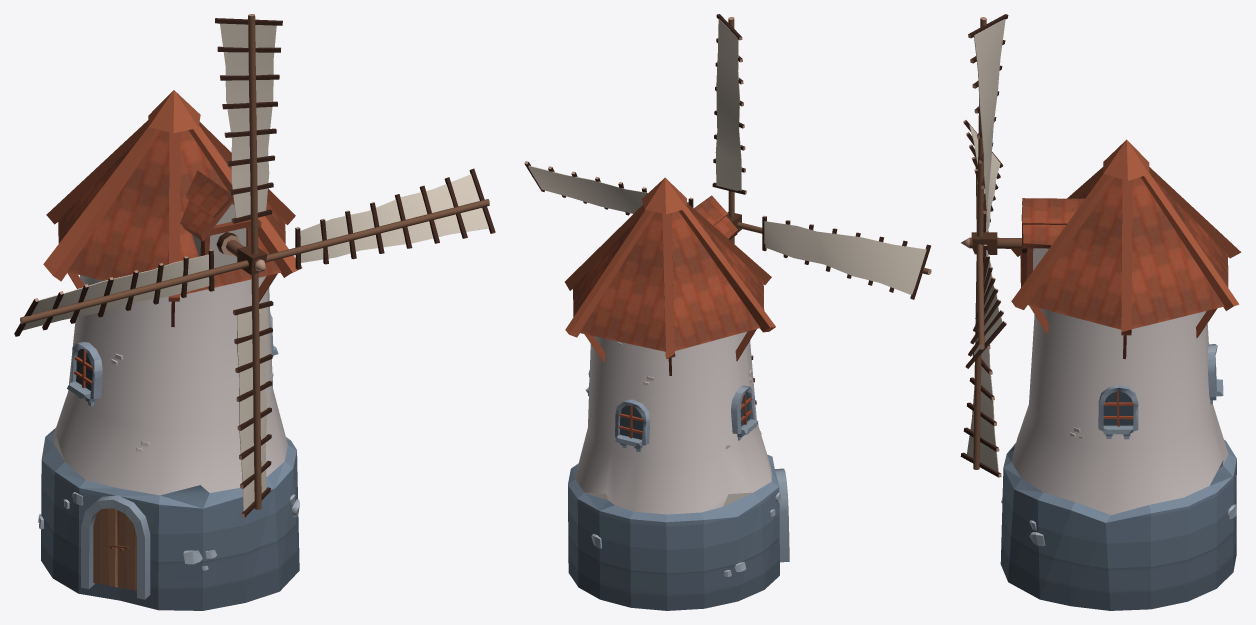
Rendered from working2.glb.
The picture shows the model from 3 angles, left to right: view 1: azimuth 30°, elevation 25°; view 2: azimuth 150°, elevation 25°; view 3: azimuth 270°, elevation 25°; orthographic projection. The views are drawn at different scales.
Visible parts, largest first — view 1: Mill-wind_Texture-base_0, Mill-wind_Texture-base_0.001; view 2: Mill-wind_Texture-base_0, Mill-wind_Texture-base_0.001, Mill-wind_Texture-base-gloss-jpg_0; view 3: Mill-wind_Texture-base_0, Mill-wind_Texture-base_0.001, Mill-wind_Texture-base-gloss-jpg_0.
Boxes of the visible parts, x1,y1,x2,y2 form: Mill-wind_Texture-base_0: (38,90,302,610); Mill-wind_Texture-base_0.001: (14,14,495,517); Mill-wind_Texture-base_0: (565,177,789,610); Mill-wind_Texture-base_0.001: (524,14,931,424); Mill-wind_Texture-base-gloss-jpg_0: (619,391,750,439); Mill-wind_Texture-base_0: (1000,139,1241,610); Mill-wind_Texture-base_0.001: (960,14,1021,477); Mill-wind_Texture-base-gloss-jpg_0: (1103,391,1133,425).
Size of the model in its own units: 12.61 by 15.33 by 7.13.
2 materials, 2 textured.
